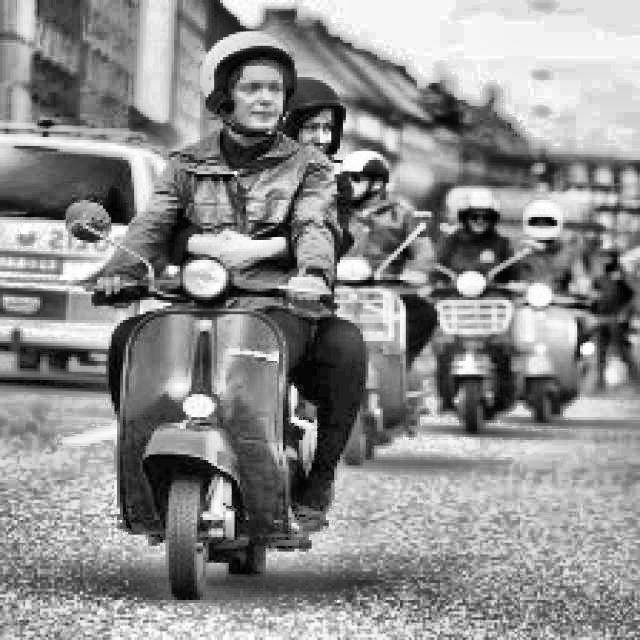motorcycle: (59, 196, 353, 597), (309, 196, 427, 463), (397, 230, 530, 429), (502, 262, 592, 423)
